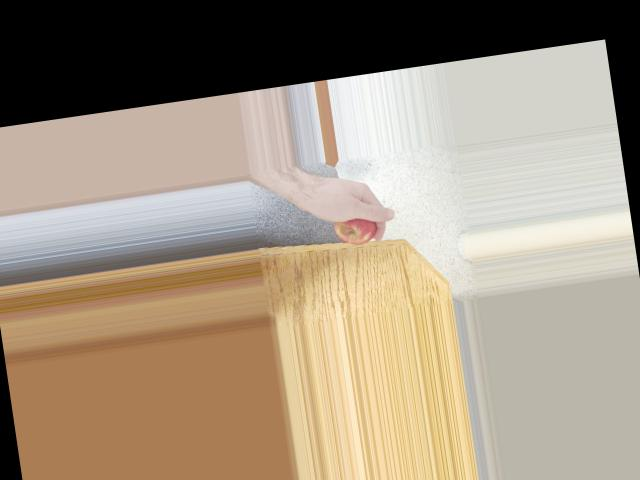apple: (331, 202, 380, 248)
